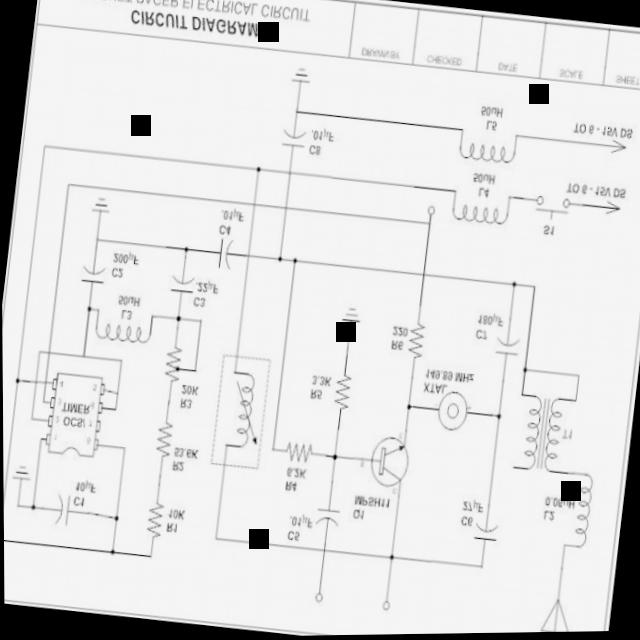capacitor: (67, 257, 115, 299), (45, 481, 79, 538), (486, 322, 524, 370), (200, 234, 238, 282), (272, 123, 309, 168), (307, 497, 344, 537), (159, 268, 195, 309), (466, 518, 503, 547)
ground: (8, 452, 41, 495), (332, 300, 366, 337), (88, 188, 114, 221), (285, 65, 315, 92)
inductor: (212, 355, 269, 463), (445, 117, 530, 183), (503, 386, 551, 492), (532, 391, 576, 490), (442, 187, 513, 238), (558, 471, 597, 560), (89, 307, 155, 355)
node: (396, 392, 419, 420), (102, 543, 121, 567), (250, 161, 265, 186), (489, 411, 504, 430), (285, 248, 300, 267), (506, 278, 518, 300), (109, 510, 125, 526), (327, 449, 340, 468), (83, 299, 94, 318), (173, 308, 182, 331), (27, 496, 37, 515), (274, 248, 283, 269), (12, 372, 23, 389), (386, 550, 396, 566), (182, 245, 194, 258)
resistor: (157, 331, 191, 394), (136, 495, 171, 556), (150, 407, 183, 470), (397, 314, 434, 369), (328, 365, 362, 420), (283, 432, 321, 467)
source: (596, 194, 628, 232), (606, 133, 630, 169)
switch: (519, 184, 577, 241)
transistor: (363, 421, 417, 501)
